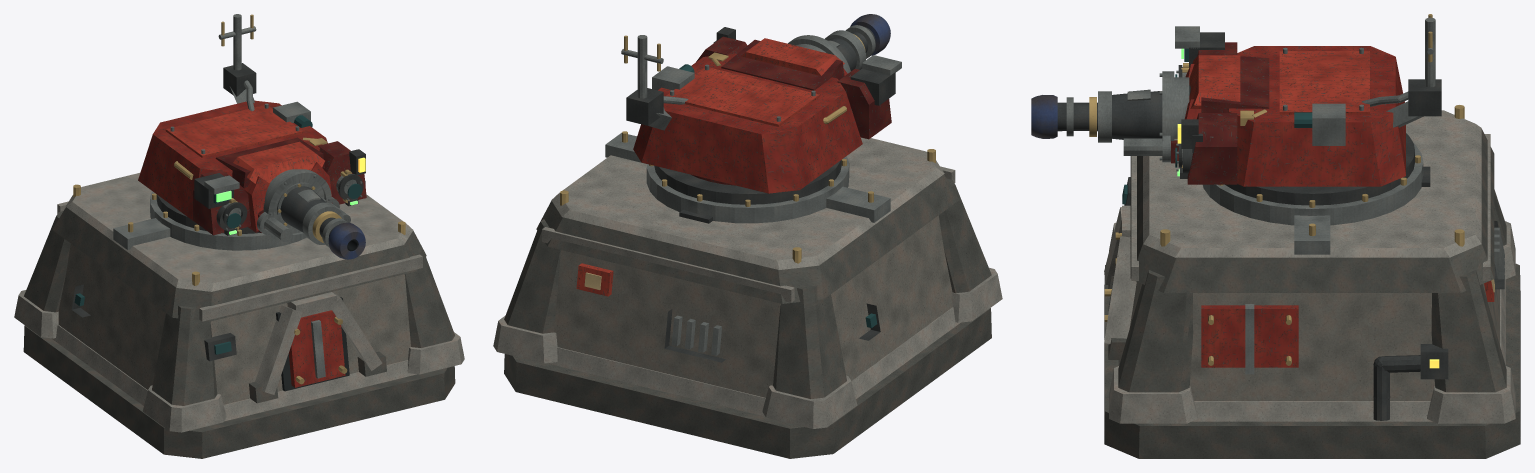
Rendered from martian_heavy_weapon_bunker_v09_textured_export.glb.
3 views of the same model, side by side, from view 1: azimuth 30°, elevation 25°; view 2: azimuth 150°, elevation 25°; view 3: azimuth 270°, elevation 25° (orthographic). The views are drawn at different scales.
Parts seen in each view (by area): view 1: 03_monolithic_bunker_mass, 01_foundation_granular_ferrocrete, 05_top_concrete_skin, 04_upper_blast_cap, 16_martian_red_turret_armor, 06_corner_armor_buttress_WS, 02_lower_blast_raft, 87_roof_red_inspection_armor, 53_south_slab_anchor_strip, 06_corner_armor_buttress_ES, 09_steel_service_hatch, 06_corner_armor_buttress_WN (+27 smaller); view 2: 03_monolithic_bunker_mass, 05_top_concrete_skin, 01_foundation_granular_ferrocrete, 16_martian_red_turret_armor, 04_upper_blast_cap, 02_lower_blast_raft, 06_corner_armor_buttress_WN, 87_roof_red_inspection_armor, 13_ring_lower_bearing_seat, 06_corner_armor_buttress_EN, 06_corner_armor_buttress_WS, 14_ring_open_bearing_race (+19 smaller); view 3: 05_top_concrete_skin, 03_monolithic_bunker_mass, 01_foundation_granular_ferrocrete, 04_upper_blast_cap, 16_martian_red_turret_armor, 06_corner_armor_buttress_ES, 06_corner_armor_buttress_EN, 55_east_wall_controller_armor, 87_roof_red_inspection_armor, 02_lower_blast_raft, 13_ring_lower_bearing_seat, 18_turret_front_cheek_E (+27 smaller).
Part boxes in pixels (x1,y1,x2,y2): 03_monolithic_bunker_mass: [58, 243, 410, 404]; 01_foundation_granular_ferrocrete: [23, 325, 455, 458]; 05_top_concrete_skin: [65, 173, 413, 291]; 04_upper_blast_cap: [52, 207, 426, 321]; 16_martian_red_turret_armor: [138, 100, 327, 220]; 06_corner_armor_buttress_WS: [152, 305, 217, 405]; 02_lower_blast_raft: [51, 324, 416, 421]; 87_roof_red_inspection_armor: [165, 105, 303, 157]; 53_south_slab_anchor_strip: [199, 254, 422, 321]; 06_corner_armor_buttress_ES: [404, 247, 454, 347]; 09_steel_service_hatch: [288, 310, 345, 387]; 06_corner_armor_buttress_WN: [24, 211, 70, 312]; 03_monolithic_bunker_mass: [554, 215, 952, 397]; 05_top_concrete_skin: [551, 137, 944, 269]; 01_foundation_granular_ferrocrete: [504, 308, 991, 458]; 16_martian_red_turret_armor: [633, 53, 862, 193]; 04_upper_blast_cap: [536, 174, 959, 303]; 02_lower_blast_raft: [547, 307, 960, 416]; 06_corner_armor_buttress_WN: [773, 285, 846, 398]; 87_roof_red_inspection_armor: [666, 67, 819, 126]; 13_ring_lower_bearing_seat: [646, 156, 849, 223]; 06_corner_armor_buttress_EN: [504, 219, 560, 333]; 06_corner_armor_buttress_WS: [938, 178, 991, 293]; 14_ring_open_bearing_race: [654, 160, 841, 204]; 05_top_concrete_skin: [1143, 110, 1481, 257]; 03_monolithic_bunker_mass: [1130, 262, 1499, 400]; 01_foundation_granular_ferrocrete: [1104, 263, 1520, 458]; 04_upper_blast_cap: [1130, 129, 1494, 292]; 16_martian_red_turret_armor: [1228, 46, 1405, 186]; 06_corner_armor_buttress_ES: [1118, 270, 1193, 392]; 06_corner_armor_buttress_EN: [1431, 270, 1506, 392]; 55_east_wall_controller_armor: [1201, 305, 1298, 367]; 87_roof_red_inspection_armor: [1279, 51, 1369, 114]; 02_lower_blast_raft: [1118, 279, 1505, 421]; 13_ring_lower_bearing_seat: [1203, 143, 1423, 225]; 18_turret_front_cheek_E: [1187, 113, 1237, 184].
Size of the model in its own units: 3.04 by 3.01 by 3.53.
Materials: 17 (17 with a texture image).
